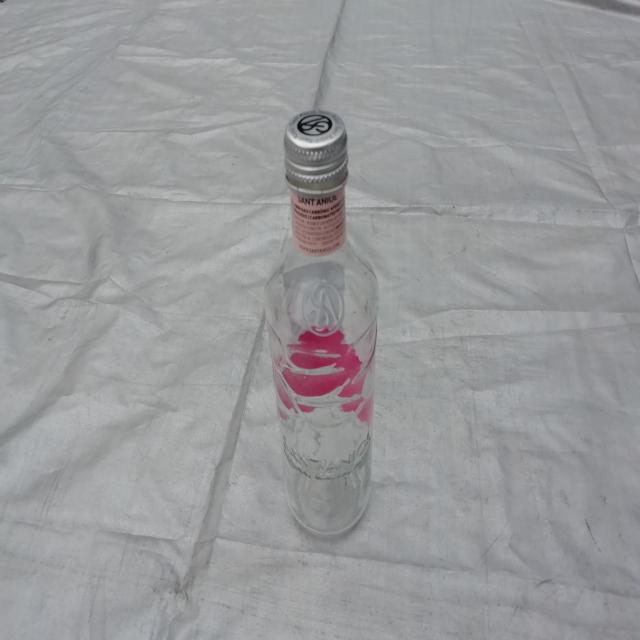glass: (265, 109, 378, 535)
